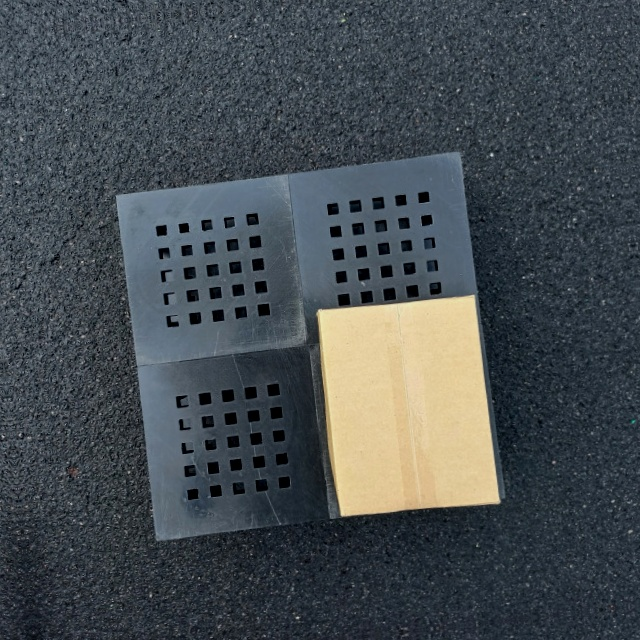box: (316, 292, 503, 520)
pallet: (99, 140, 517, 557)
